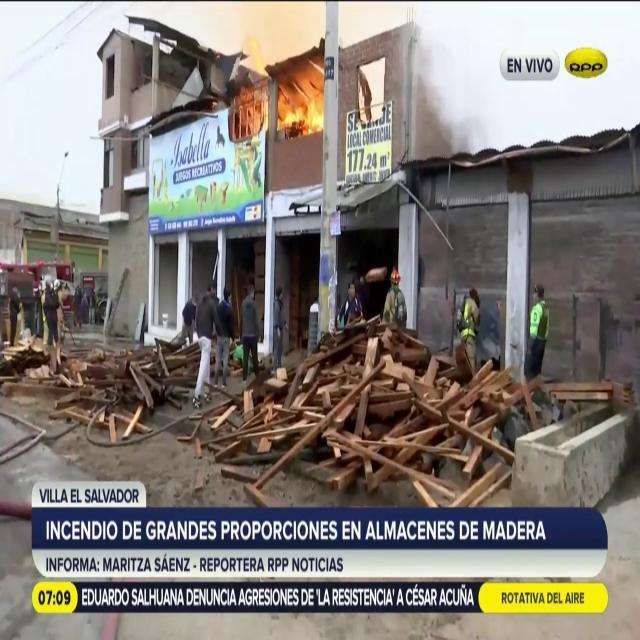Fire: (291, 81, 327, 136)
